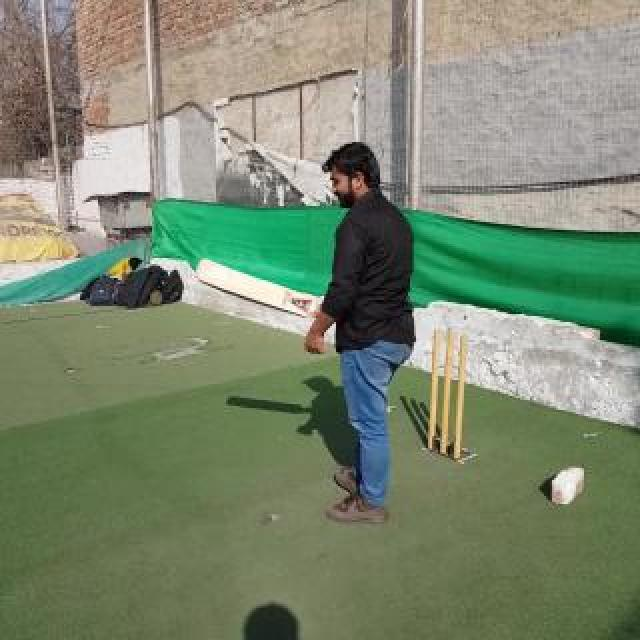bat: (196, 258, 316, 318)
